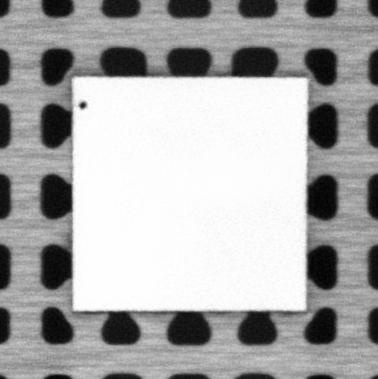DIE_INK: (77, 99, 88, 110)
